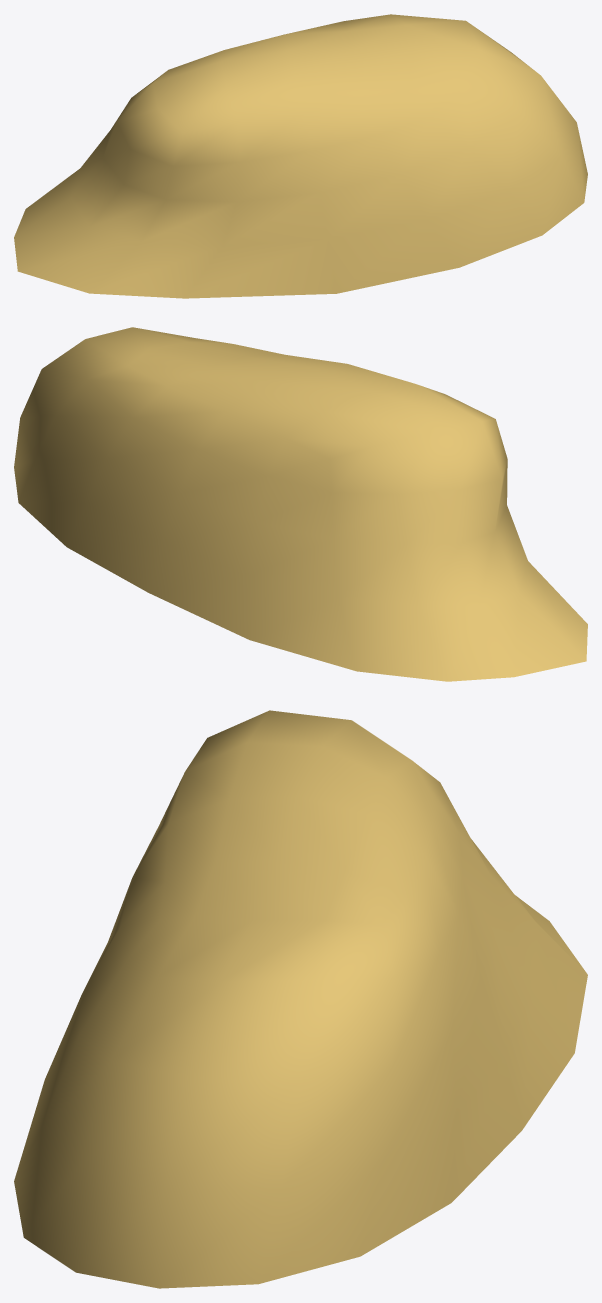
File: Sand2.fbx
3 views of the same model, one above another, from view 1: azimuth 30°, elevation 25°; view 2: azimuth 150°, elevation 25°; view 3: azimuth 270°, elevation 25° (orthographic). The views are drawn at different scales.
Parts seen in each view (by area): view 1: Sand2; view 2: Sand2; view 3: Sand2.
Part boxes in pixels (bbox=[...]): Sand2: bbox=[14, 14, 587, 298]; Sand2: bbox=[14, 327, 587, 681]; Sand2: bbox=[14, 710, 587, 1288].
Size of the model in its own units: 895 by 311 by 501.
